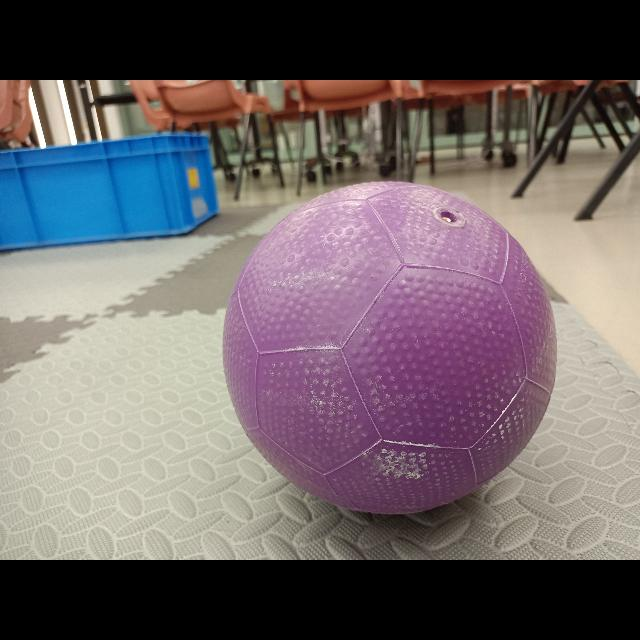P: (224, 180, 564, 518)
